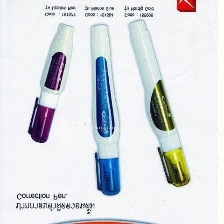correction_fluid: (125, 18, 193, 189), (84, 22, 123, 197), (24, 20, 75, 145)
